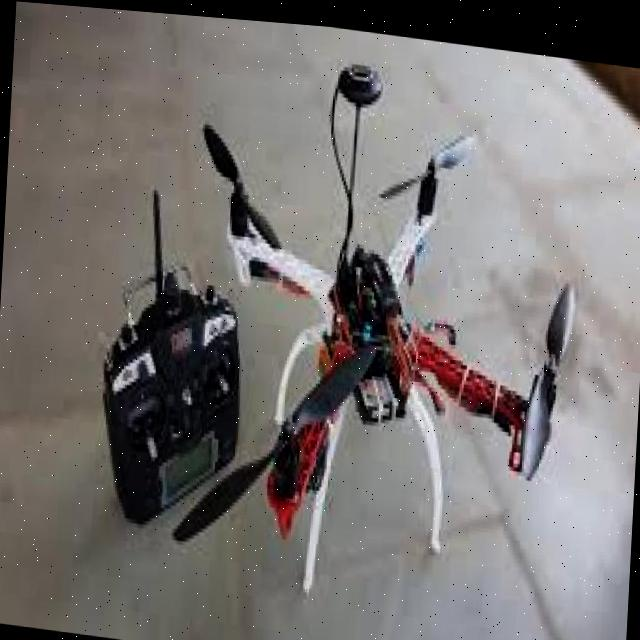drone: (162, 95, 594, 627)
